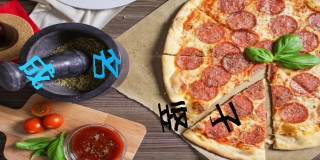名: (92, 48, 120, 81)
子: (210, 102, 241, 133)
成: (19, 54, 57, 90)
竖: (158, 101, 188, 133)
